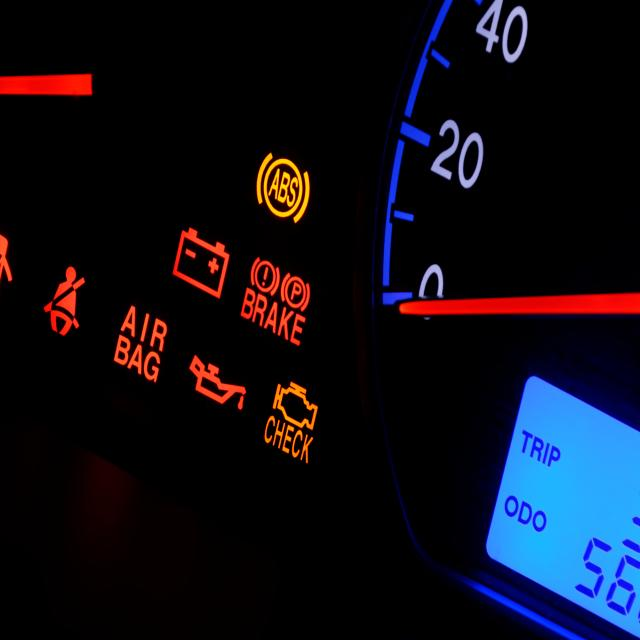kontrolka: (258, 363, 330, 483), (245, 132, 317, 231), (184, 342, 252, 438), (107, 290, 169, 392), (165, 212, 232, 305), (36, 252, 82, 348), (281, 265, 314, 313), (246, 252, 279, 298)
